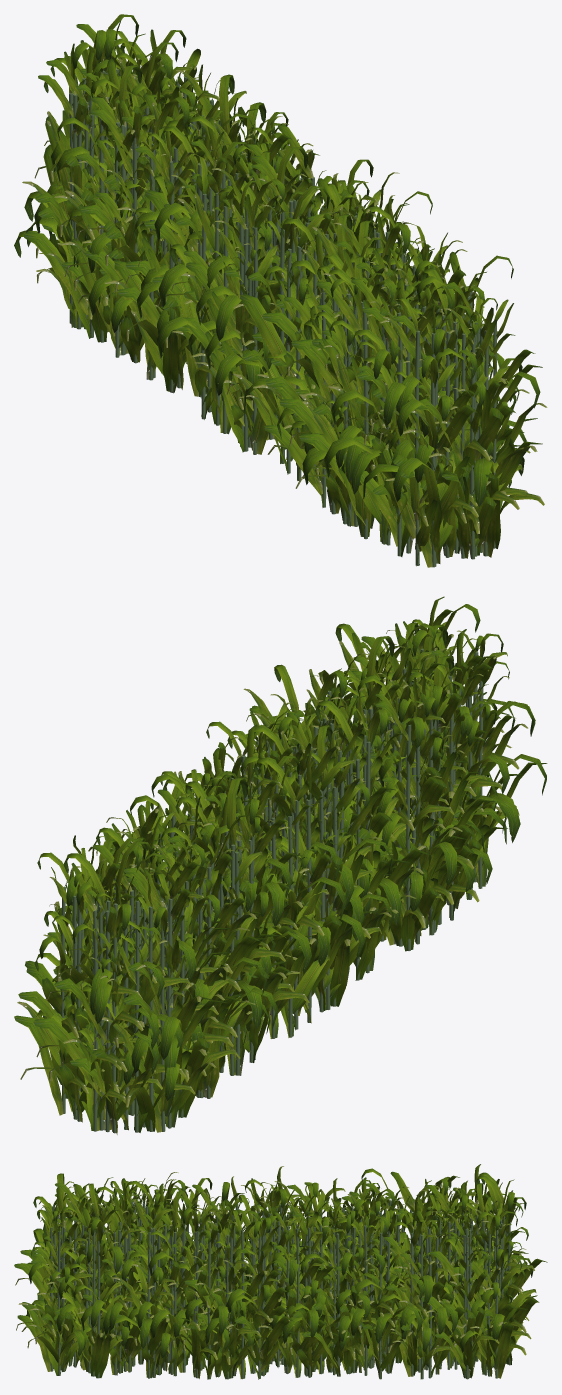
Rendered from milharal4x25_denso3.fbx.
3 views of the same model, one above another, from view 1: azimuth 30°, elevation 25°; view 2: azimuth 150°, elevation 25°; view 3: azimuth 270°, elevation 25° (orthographic). The views are drawn at different scales.
Visible parts, largest first — view 1: Plantacao2; view 2: Plantacao2; view 3: Plantacao2.
Boxes of the visible parts, left/top/right/bottom form: Plantacao2: left=14, top=14, right=547, bottom=567; Plantacao2: left=14, top=596, right=547, bottom=1134; Plantacao2: left=14, top=1164, right=547, bottom=1379.
Bounding box in the file's own units: 866 × 1107 × 2901.
